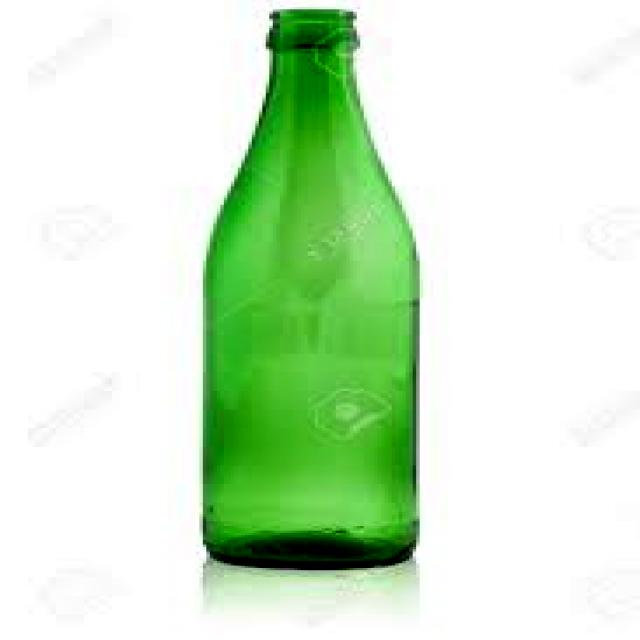Glass: (197, 6, 427, 577)
